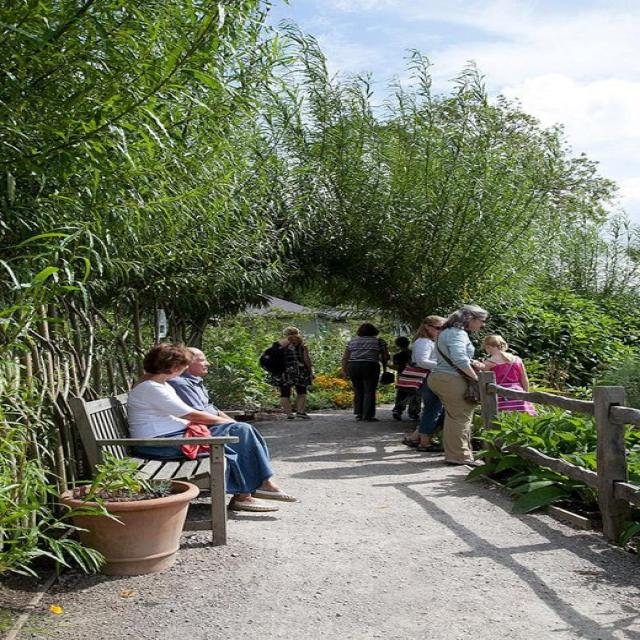body: (122, 340, 299, 514), (424, 303, 490, 468), (400, 314, 450, 453), (164, 346, 238, 424), (258, 324, 316, 420), (480, 333, 539, 419), (341, 322, 390, 423), (379, 335, 415, 383)
